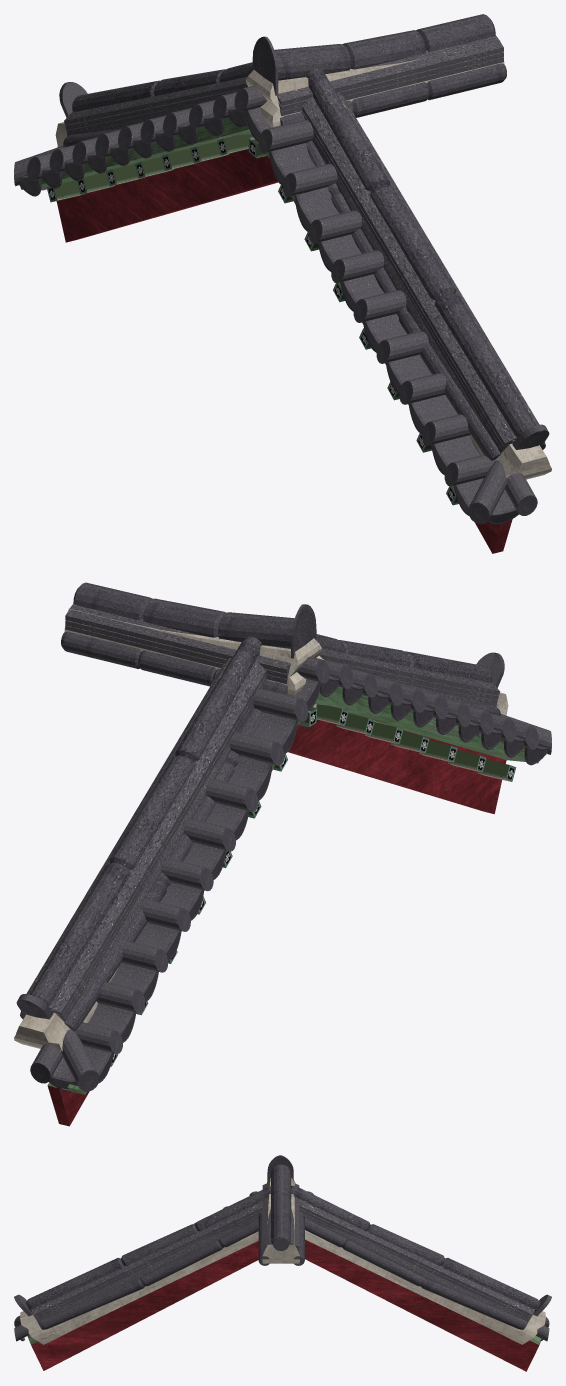
The model's file is SM_R_RoofOuter_17.fbx.
The picture shows the model from 3 angles, top to bottom: view 1: azimuth 30°, elevation 25°; view 2: azimuth 150°, elevation 25°; view 3: azimuth 270°, elevation 25°; orthographic projection. The views are drawn at different scales.
Visible parts, largest first — view 1: SM_R_RoofOuter_17; view 2: SM_R_RoofOuter_17; view 3: SM_R_RoofOuter_17.
Boxes of the visible parts, <box> form: SM_R_RoofOuter_17: <box>14,14,551,553</box>; SM_R_RoofOuter_17: <box>14,582,551,1126</box>; SM_R_RoofOuter_17: <box>14,1155,551,1371</box>.
Bounding box in the file's own units: 188 × 621 × 266.
4 materials, 4 textured.
